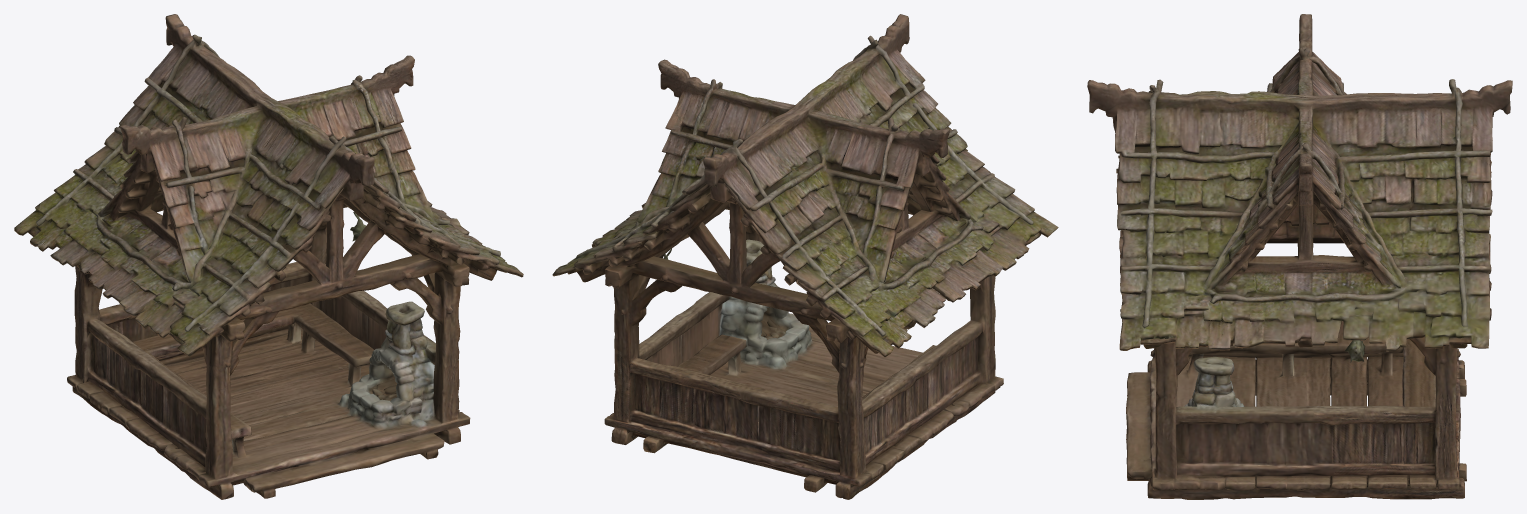
File: 3d_model_a_rustic_medieval_wooden_shelter_free.glb
The picture shows the model from 3 angles, left to right: view 1: azimuth 30°, elevation 25°; view 2: azimuth 150°, elevation 25°; view 3: azimuth 270°, elevation 25°; orthographic projection. The views are drawn at different scales.
Visible parts, largest first — view 1: tripo_node_b6375b70-0598-4021-a7de-2cd49_0; view 2: tripo_node_b6375b70-0598-4021-a7de-2cd49_0; view 3: tripo_node_b6375b70-0598-4021-a7de-2cd49_0.
Part boxes in pixels (box(x1,y1,x2,y2)): tripo_node_b6375b70-0598-4021-a7de-2cd49_0: box(14, 14, 523, 499); tripo_node_b6375b70-0598-4021-a7de-2cd49_0: box(552, 14, 1058, 499); tripo_node_b6375b70-0598-4021-a7de-2cd49_0: box(1087, 14, 1512, 499).
Bounding box in the file's own units: 0.9945 × 0.9268 × 1.
Materials: 1 (1 with a texture image).
